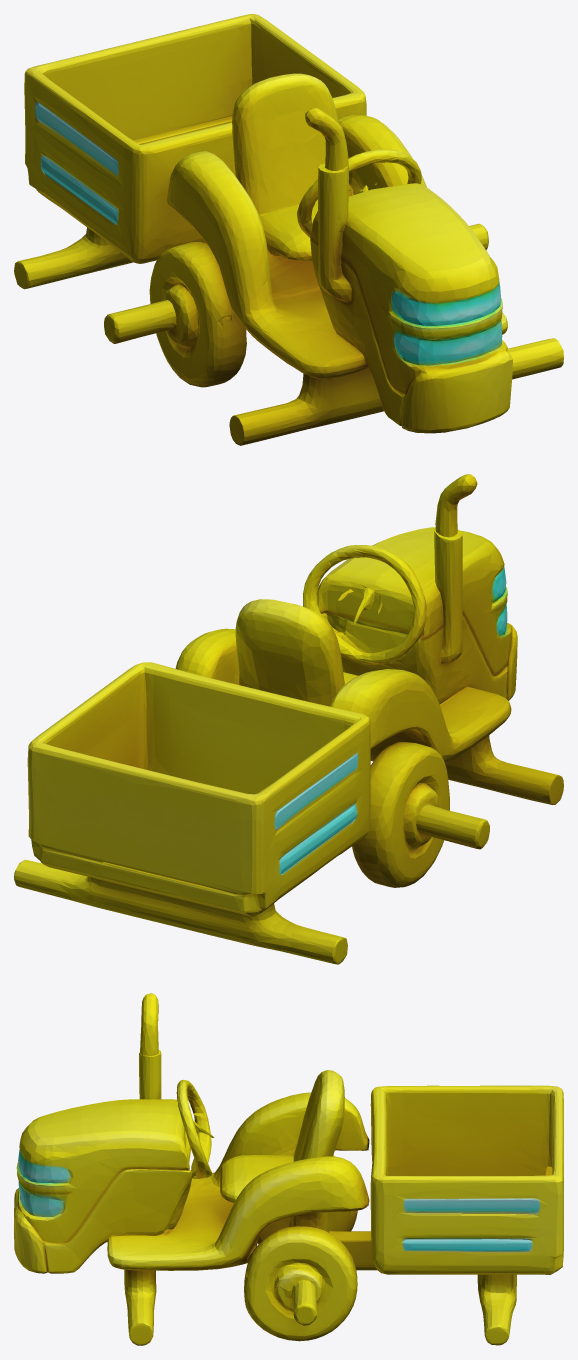
3 renders of one model, top to bottom at view 1: azimuth 30°, elevation 25°; view 2: azimuth 150°, elevation 25°; view 3: azimuth 270°, elevation 25°, orthographic. The views are drawn at different scales.
Visible parts, largest first — view 1: geometry_0; view 2: geometry_0; view 3: geometry_0.
Part boxes in pixels (left/top/right/bottom): geometry_0: left=14, top=14, right=563, bottom=445; geometry_0: left=14, top=474, right=563, bottom=964; geometry_0: left=14, top=993, right=563, bottom=1345.
Bounding box in the file's own units: 0.6459 × 0.5482 × 0.9962.
Materials: 1 (1 with a texture image).
